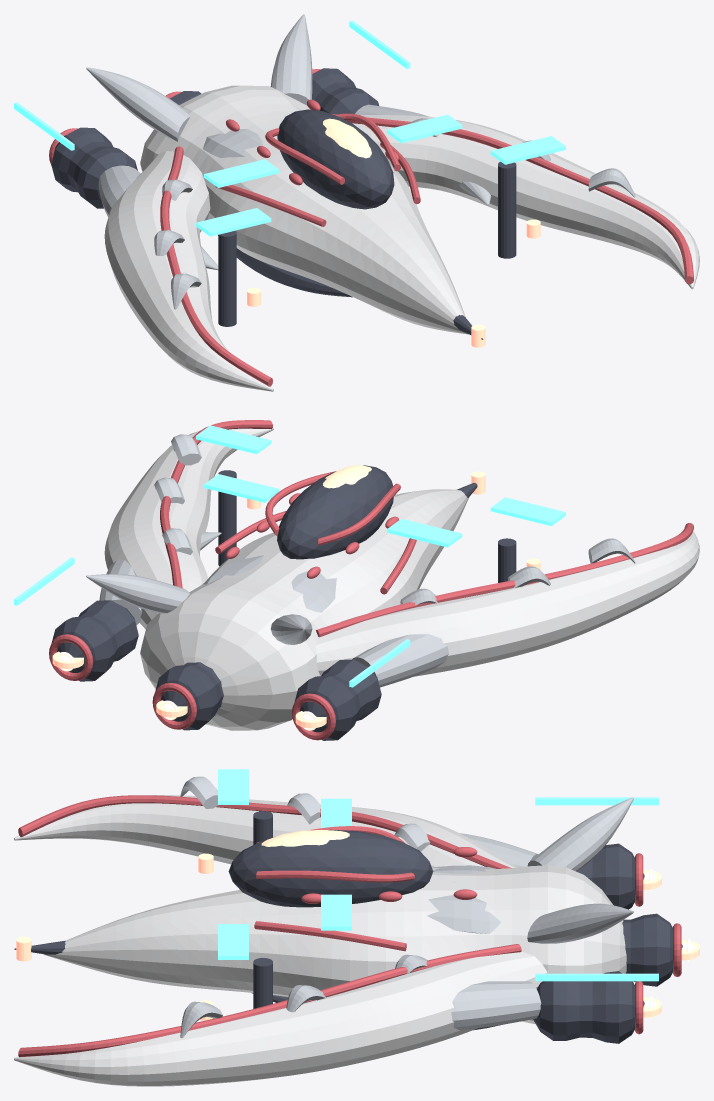
File: SL_AURORA_HQ.glb
3 renders of one model, top to bottom at view 1: azimuth 30°, elevation 25°; view 2: azimuth 150°, elevation 25°; view 3: azimuth 270°, elevation 25°, orthographic. The views are drawn at different scales.
Visible parts, largest first — view 1: 00_FUSELAGEM_MONOCOQUE, 10_GARRA_D, 10_GARRA_E, 03_JANELA_DA_CABINE, V59 trim baked, 20_PROPULSOR_LATERAL_E_cowl, 62_ESTABILIZADOR_E, 11_FRISO_CONTORNO_D, 62_ESTABILIZADOR_D, 11_FRISO_CONTORNO_E, 20_PROPULSOR_LATERAL_D_cowl, 22_CANHAO_ALA_D (+11 smaller); view 2: 00_FUSELAGEM_MONOCOQUE, 10_GARRA_E, 10_GARRA_D, 03_JANELA_DA_CABINE, V59 trim baked, 20_PROPULSOR_LATERAL_D_cowl, 20_PROPULSOR_LATERAL_E_cowl, 21_NACELA_E, 11_FRISO_CONTORNO_E, 06_TURBINA_PRINCIPAL_cowl, 62_ESTABILIZADOR_D, 01_PLACA_DORSAL (+18 smaller); view 3: 00_FUSELAGEM_MONOCOQUE, 10_GARRA_D, 10_GARRA_E, 03_JANELA_DA_CABINE, V59 trim baked, 20_PROPULSOR_LATERAL_D_cowl, 11_FRISO_CONTORNO_D, 21_NACELA_D, 11_FRISO_CONTORNO_E, 62_ESTABILIZADOR_E, 06_TURBINA_PRINCIPAL_cowl, 62_ESTABILIZADOR_D (+13 smaller).
Part boxes in pixels (box(x1,y1,x2,y2)): 00_FUSELAGEM_MONOCOQUE: box(140, 85, 468, 334); 10_GARRA_D: box(352, 115, 699, 289); 10_GARRA_E: box(104, 151, 273, 391); 03_JANELA_DA_CABINE: box(277, 109, 394, 209); V59 trim baked: box(14, 20, 565, 236); 20_PROPULSOR_LATERAL_E_cowl: box(51, 127, 137, 208); 62_ESTABILIZADOR_E: box(86, 67, 190, 141); 11_FRISO_CONTORNO_D: box(332, 114, 693, 284); 62_ESTABILIZADOR_D: box(270, 14, 312, 106); 11_FRISO_CONTORNO_E: box(160, 146, 272, 386); 20_PROPULSOR_LATERAL_D_cowl: box(312, 68, 379, 114); 22_CANHAO_ALA_D: box(498, 161, 516, 258); 00_FUSELAGEM_MONOCOQUE: box(140, 489, 468, 730); 10_GARRA_E: box(315, 531, 699, 676); 10_GARRA_D: box(104, 427, 273, 629); 03_JANELA_DA_CABINE: box(277, 465, 393, 559); V59 trim baked: box(14, 425, 565, 687); 20_PROPULSOR_LATERAL_D_cowl: box(52, 600, 138, 681); 20_PROPULSOR_LATERAL_E_cowl: box(295, 659, 381, 740); 21_NACELA_E: box(352, 634, 448, 687); 11_FRISO_CONTORNO_E: box(316, 523, 693, 637); 06_TURBINA_PRINCIPAL_cowl: box(155, 662, 223, 730); 62_ESTABILIZADOR_D: box(86, 574, 189, 613); 01_PLACA_DORSAL: box(203, 555, 336, 612); 00_FUSELAGEM_MONOCOQUE: box(44, 865, 626, 1023); 10_GARRA_D: box(14, 951, 547, 1086); 10_GARRA_E: box(14, 795, 517, 867); 03_JANELA_DA_CABINE: box(228, 829, 433, 907); V59 trim baked: box(218, 769, 658, 981); 20_PROPULSOR_LATERAL_D_cowl: box(533, 971, 644, 1043); 11_FRISO_CONTORNO_D: box(18, 944, 521, 1057); 21_NACELA_D: box(451, 981, 541, 1030); 11_FRISO_CONTORNO_E: box(18, 795, 511, 868); 62_ESTABILIZADOR_E: box(527, 797, 633, 871); 06_TURBINA_PRINCIPAL_cowl: box(622, 913, 682, 986); 62_ESTABILIZADOR_D: box(527, 903, 633, 943).
Size of the model in its own units: 5.31 by 1.77 by 5.77.
